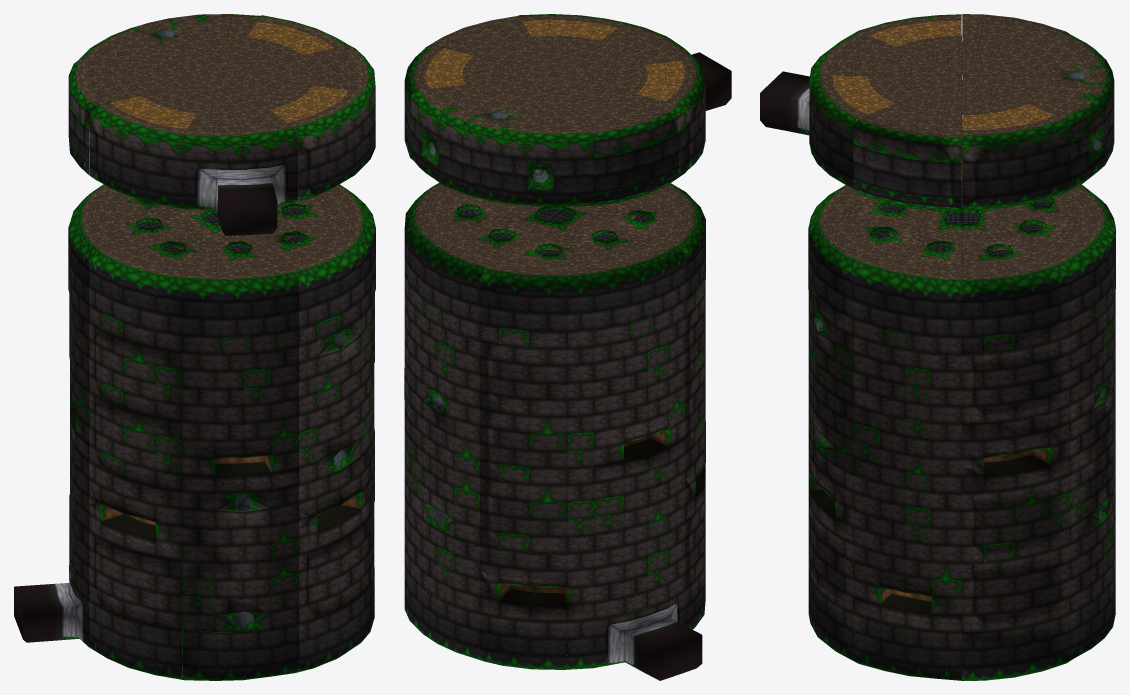
3 views of the same model, side by side, from view 1: azimuth 30°, elevation 25°; view 2: azimuth 150°, elevation 25°; view 3: azimuth 270°, elevation 25° (orthographic).
Parts seen in each view (by area): view 1: 20ae000_54, 20ae000_55, 20ae000_35, 20ae000_34, 20ae000_58, 20ae000_56, 20ae000_57, 20ae000_59, 20ae000_62, 20ae000_61, 20ae000_38, 20ae000_37 (+29 smaller); view 2: 20ae000_1, 20ae000_0, 20ae000_15, 20ae000_14, 20ae000_5, 20ae000_3, 20ae000_4, 20ae000_2, 20ae000_8, 20ae000_7, 20ae000_20, 20ae000_18 (+29 smaller); view 3: 20ae000_48, 20ae000_47, 20ae000_28, 20ae000_27, 20ae000_30, 20ae000_32, 20ae000_29, 20ae000_51, 20ae000_52, 20ae000_50, 20ae000_31, 20ae000_49 (+30 smaller).
Boxes of the visible parts, <box> form: 20ae000_54: <box>181,110,298,235</box>; 20ae000_55: <box>182,245,298,354</box>; 20ae000_35: <box>89,236,194,352</box>; 20ae000_34: <box>90,95,197,209</box>; 20ae000_58: <box>182,485,298,562</box>; 20ae000_56: <box>182,346,298,423</box>; 20ae000_57: <box>182,415,298,492</box>; 20ae000_59: <box>182,554,298,631</box>; 20ae000_62: <box>261,231,370,345</box>; 20ae000_61: <box>270,85,370,202</box>; 20ae000_38: <box>89,461,182,560</box>; 20ae000_37: <box>89,391,182,491</box>; 20ae000_1: <box>479,244,593,348</box>; 20ae000_0: <box>480,108,593,206</box>; 20ae000_15: <box>580,232,685,346</box>; 20ae000_14: <box>580,94,685,206</box>; 20ae000_5: <box>480,545,594,621</box>; 20ae000_3: <box>480,408,594,484</box>; 20ae000_4: <box>480,476,594,553</box>; 20ae000_2: <box>480,340,594,416</box>; 20ae000_8: <box>409,227,516,339</box>; 20ae000_7: <box>410,84,508,199</box>; 20ae000_20: <box>593,590,702,680</box>; 20ae000_18: <box>594,453,685,550</box>; 20ae000_48: <box>853,244,961,354</box>; 20ae000_47: <box>853,103,961,211</box>; 20ae000_28: <box>962,250,1070,353</box>; 20ae000_27: <box>962,104,1070,210</box>; 20ae000_30: <box>962,405,1070,493</box>; 20ae000_32: <box>962,544,1070,632</box>; 20ae000_29: <box>962,335,1070,423</box>; 20ae000_51: <box>853,474,961,562</box>; 20ae000_52: <box>853,544,961,632</box>; 20ae000_50: <box>853,405,961,493</box>; 20ae000_31: <box>962,474,1070,562</box>; 20ae000_49: <box>853,335,961,423</box>.
Bounding box in the file's own units: 18.51 × 32.3 × 18.54.
Materials: 1 (1 with a texture image).
